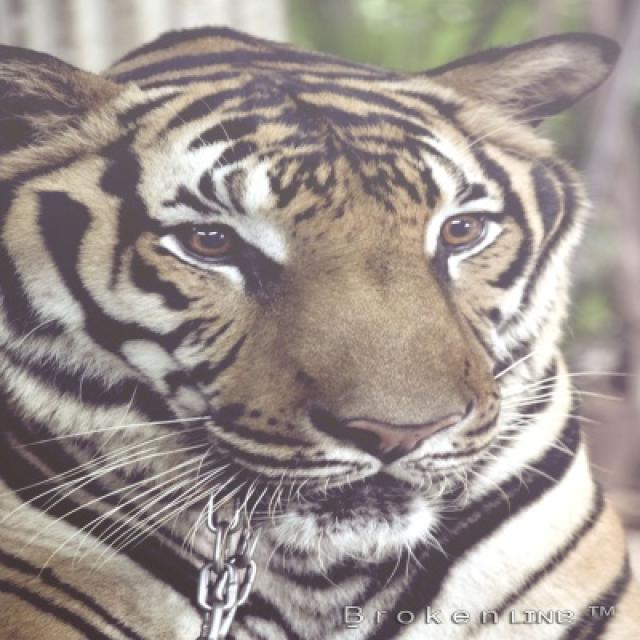Tiger: (0, 63, 594, 567)
